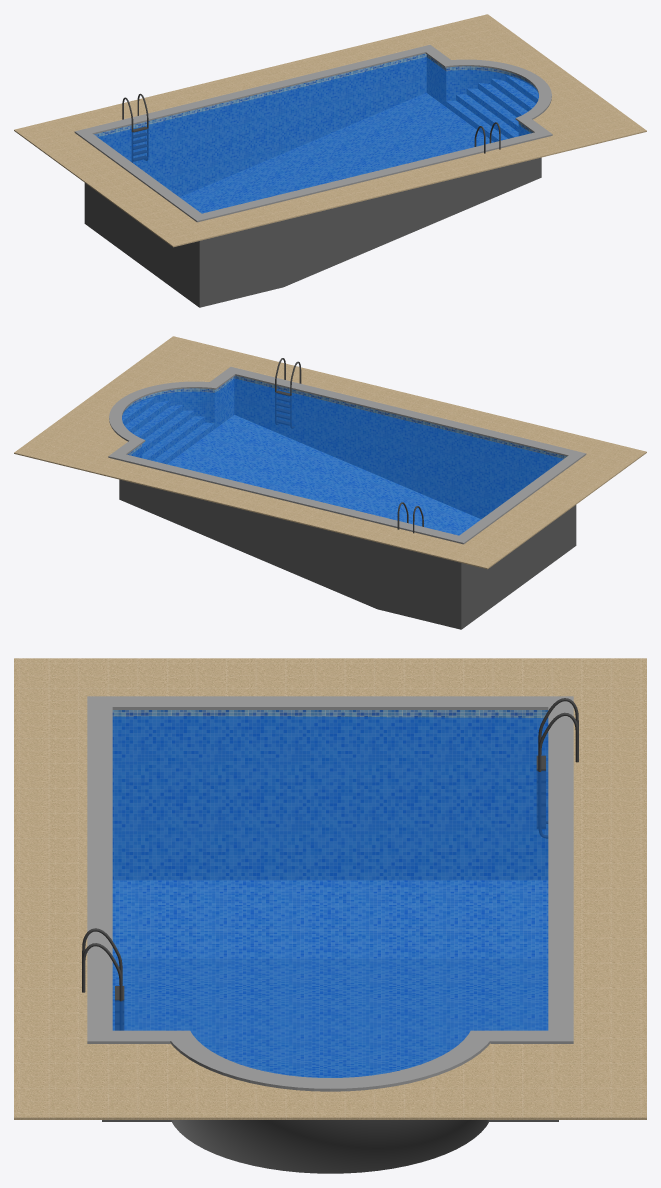
Rendered from swimming-pool.obj.
3 renders of one model, top to bottom at view 1: azimuth 30°, elevation 25°; view 2: azimuth 150°, elevation 25°; view 3: azimuth 270°, elevation 25°, orthographic. The views are drawn at different scales.
Visible parts, largest first — view 1: water_Circle.003, int-wall_Cube, border_Circle.004, ext-wall_Circle.002, stone_Circle.001, Circle, BezierCurve.001_Mesh.001; view 2: water_Circle.003, int-wall_Cube, border_Circle.004, ext-wall_Circle.002, stone_Circle.001, Circle, BezierCurve.001_Mesh.001; view 3: int-wall_Cube, water_Circle.003, border_Circle.004, stone_Circle.001, ext-wall_Circle.002, BezierCurve.001_Mesh.001.
Boxes of the visible parts, x1,y1,x2,y2 form: water_Circle.003: [98, 57, 538, 213]; int-wall_Cube: [94, 53, 538, 213]; border_Circle.004: [14, 14, 646, 247]; ext-wall_Circle.002: [84, 157, 541, 307]; stone_Circle.001: [74, 45, 552, 222]; Circle: [446, 66, 537, 100]; BezierCurve.001_Mesh.001: [122, 93, 500, 162]; water_Circle.003: [122, 378, 563, 535]; int-wall_Cube: [122, 375, 566, 535]; border_Circle.004: [14, 336, 646, 569]; ext-wall_Circle.002: [119, 479, 576, 629]; stone_Circle.001: [108, 367, 586, 544]; Circle: [123, 388, 214, 422]; BezierCurve.001_Mesh.001: [275, 358, 423, 533]; int-wall_Cube: [112, 710, 548, 1077]; water_Circle.003: [112, 716, 548, 1077]; border_Circle.004: [14, 658, 646, 1119]; stone_Circle.001: [87, 696, 573, 1091]; ext-wall_Circle.002: [102, 1120, 558, 1173]; BezierCurve.001_Mesh.001: [82, 698, 578, 1030].
Bounding box in the file's own units: 1713 × 395 × 998.
6 materials, 2 textured.
